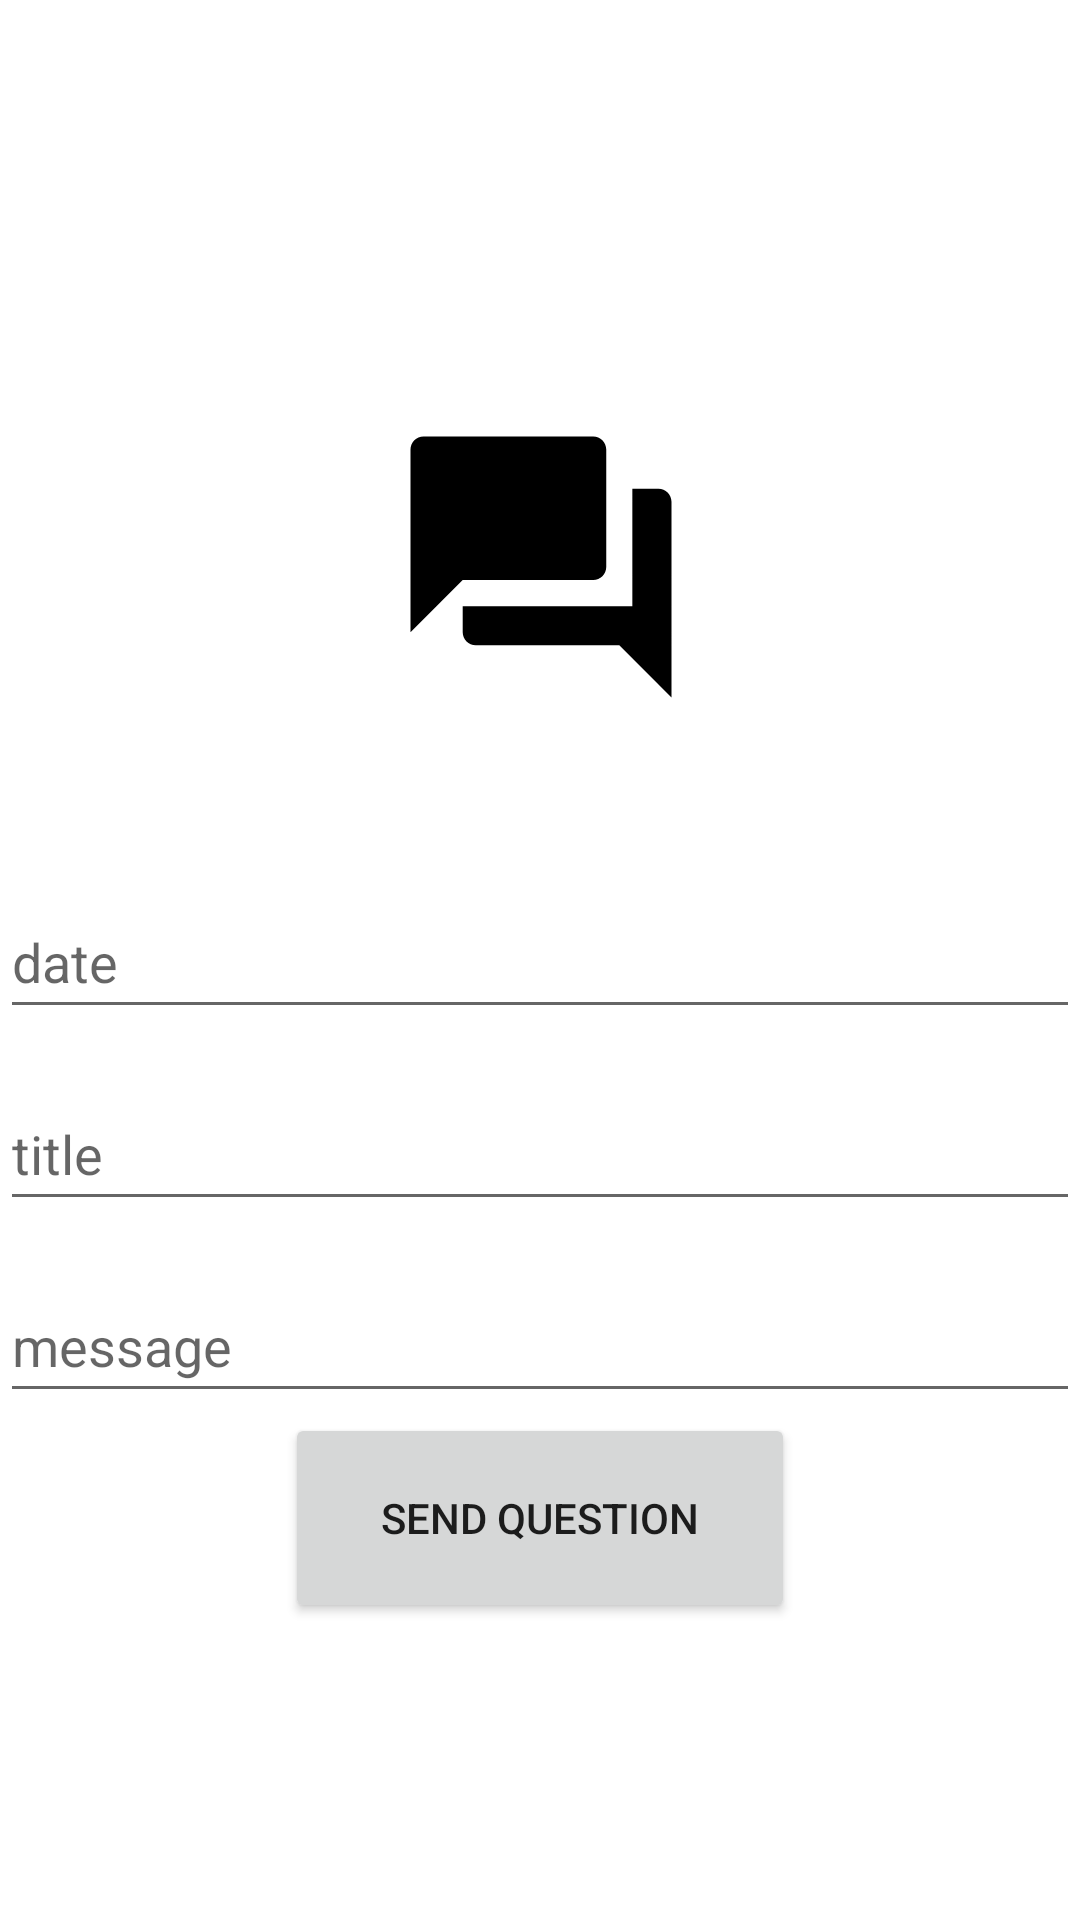

Screen size 1080*1920. Icon name, then its box in pixels as [x1, y1, x2, y2]:
forum: [410, 436, 672, 698]
